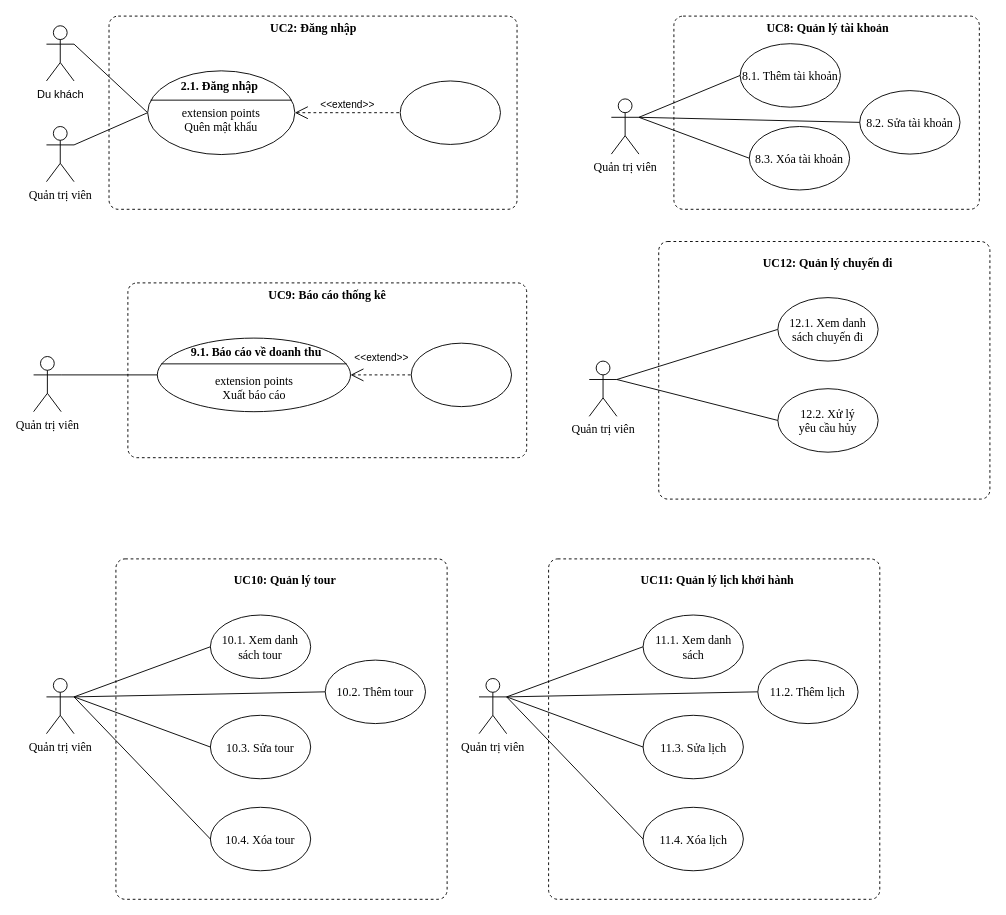
The diagram is 1006 pixels wide and 915 high, and some of its shapes have lost their labels. The shapes that lost their labels are listed below. From the top down, each one's centre as x and y in pixels, then its label:
the point at 449,112: 2.2. Lấy lại mật khẩu
the point at 461,374: 9.2. Xuất báo cáo
